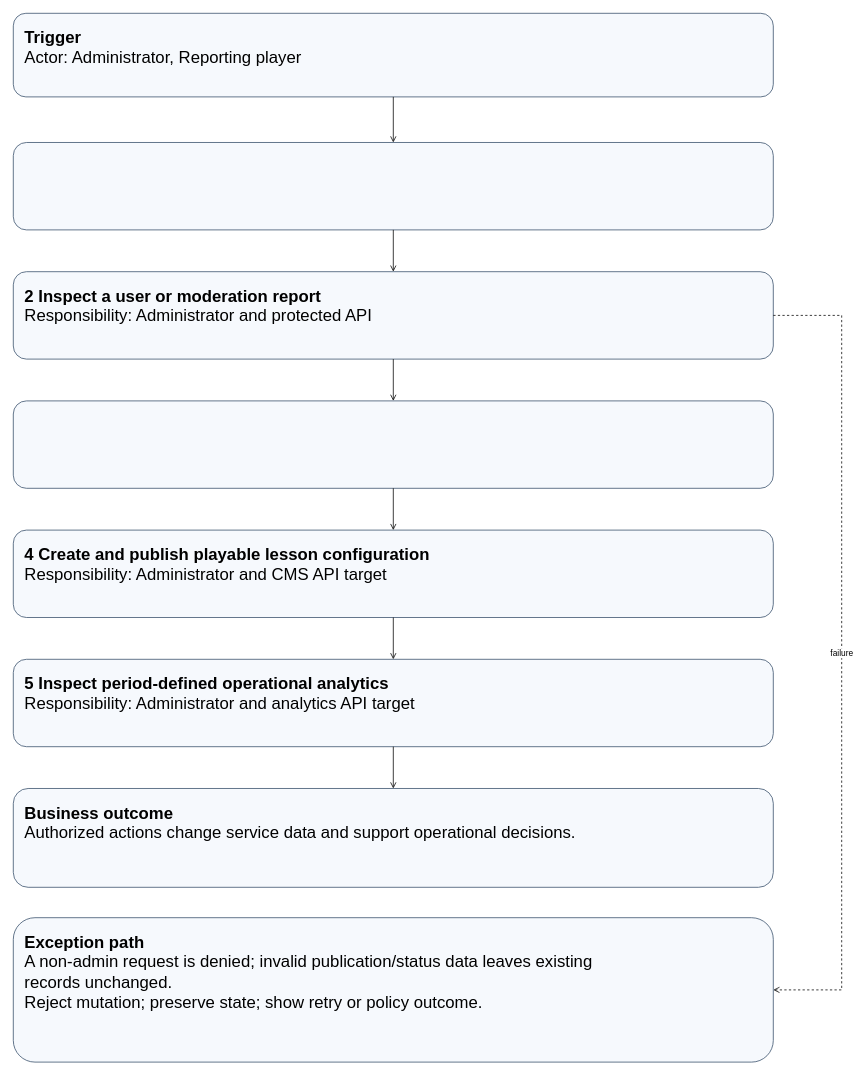
Some shapes in this 866 by 1075 pixel diagram are drawn without their labels. The shapes that lost their labels are listed below. From the top down, each one's centre as x and y in pixels, then its label:
(x=393, y=186): 1 Authenticate as administrator Responsibility: Admin browser and auth API
(x=393, y=444): 3 Apply valid access/status decision Responsibility: Administrator and user API
